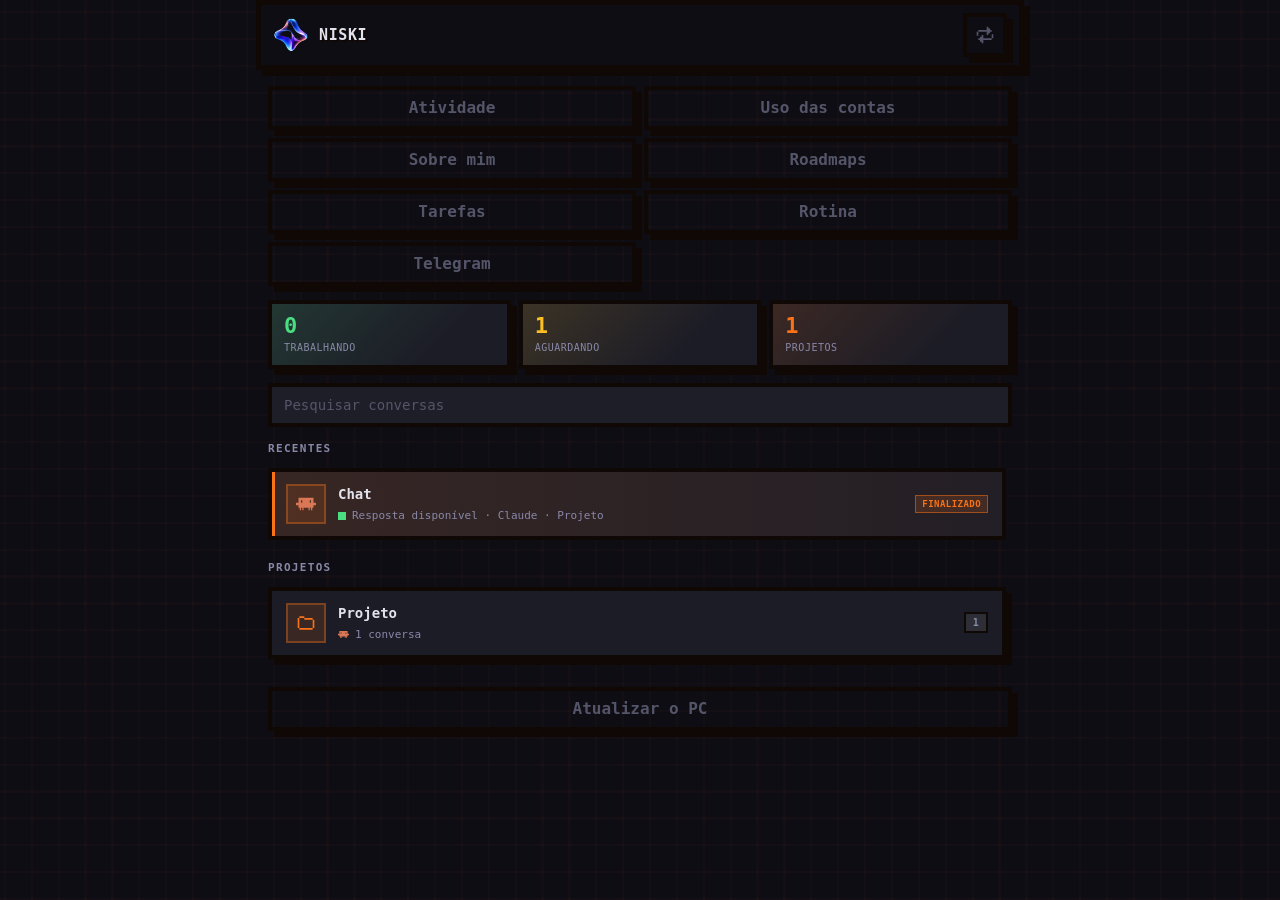
mandar prompt vira balão no chat e mostra o agente trabalhando, sem aviso de fila
Click the button with aria-label "Abrir projeto".
click(306, 623)  # box [268, 587, 1006, 659]
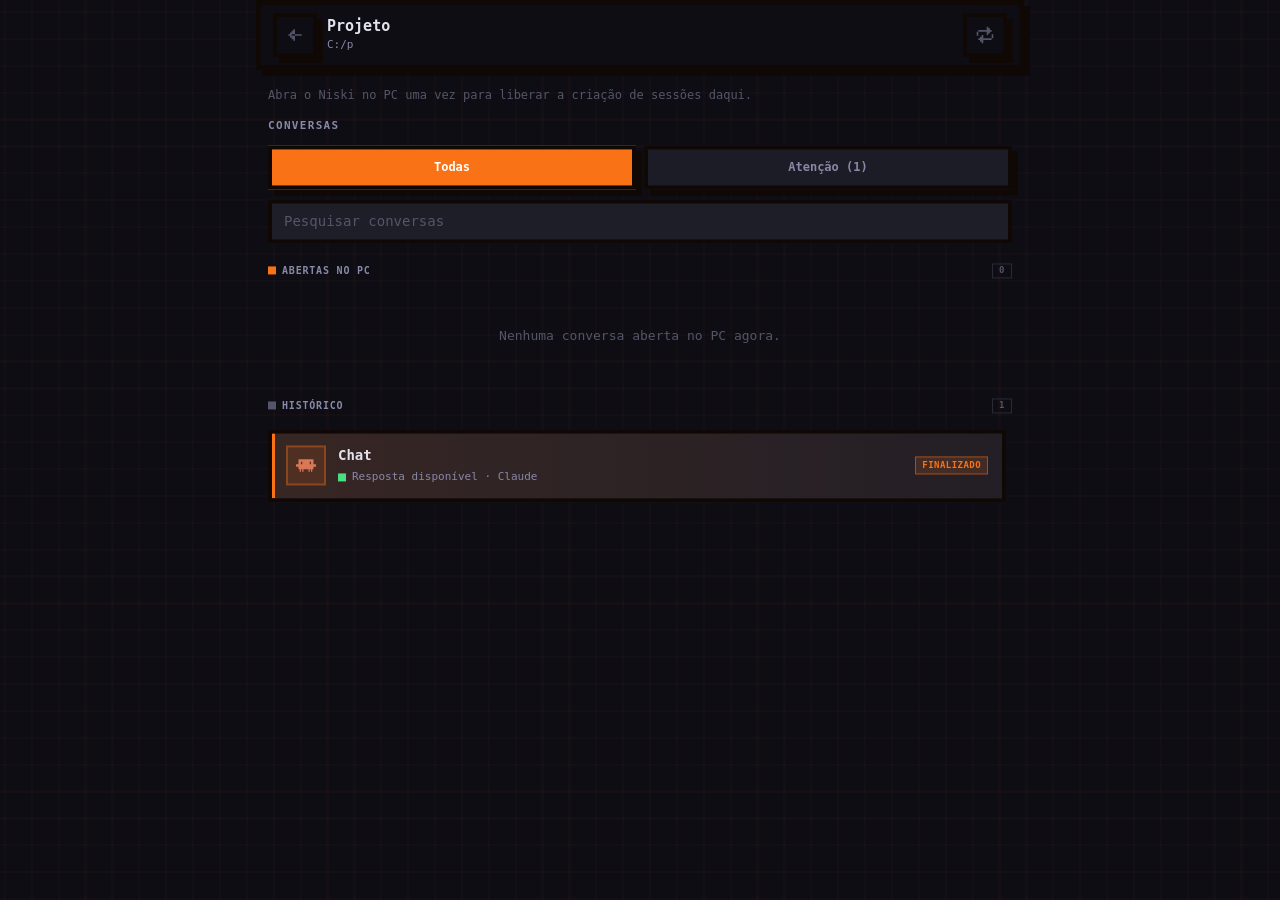
Click the button with aria-label "Abrir conversa".
click(306, 465)  # box [268, 429, 1006, 502]
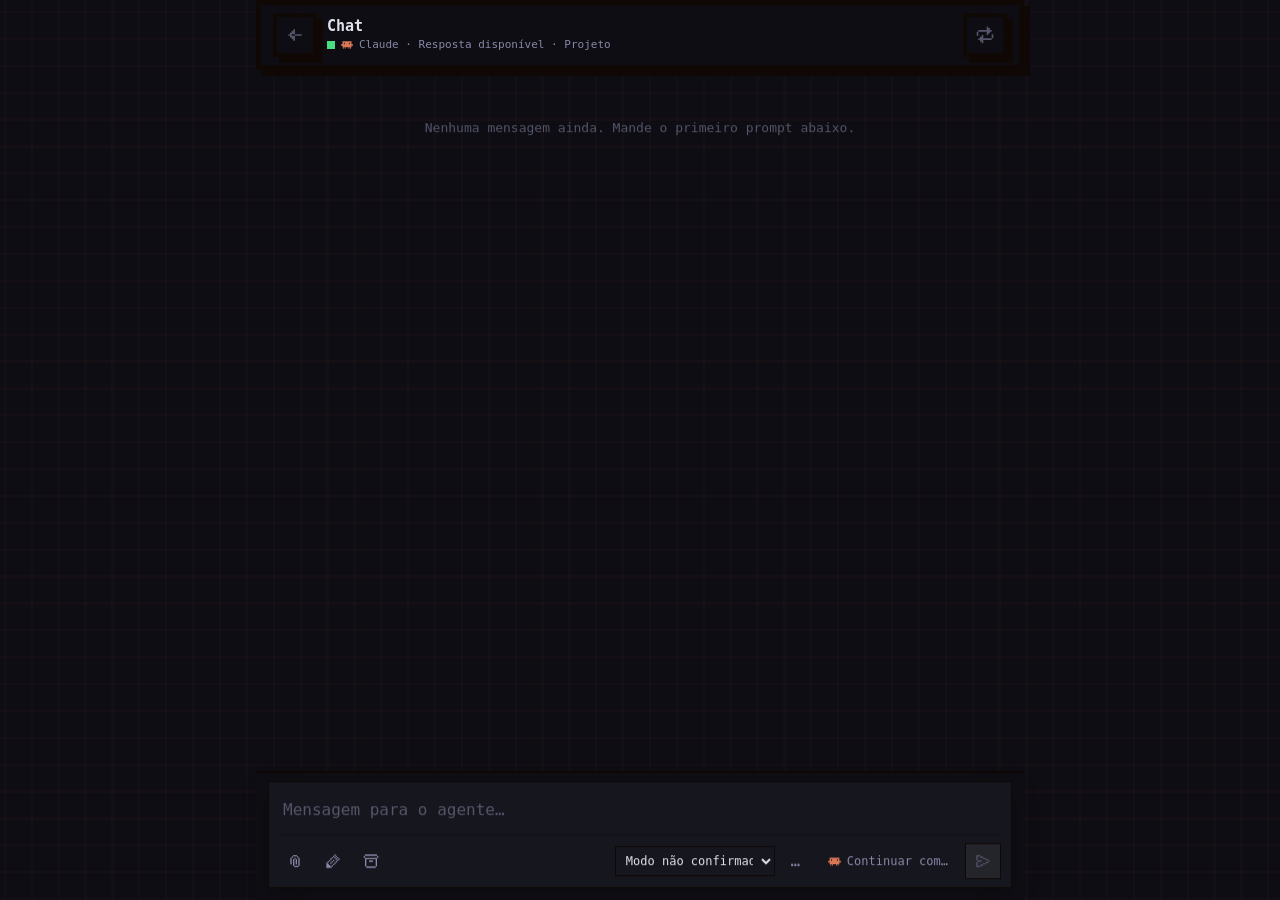
Type "Olá agente" into the text box named "Sua resposta".
click(640, 810); type("Olá agente")  # box [279, 792, 1001, 828]
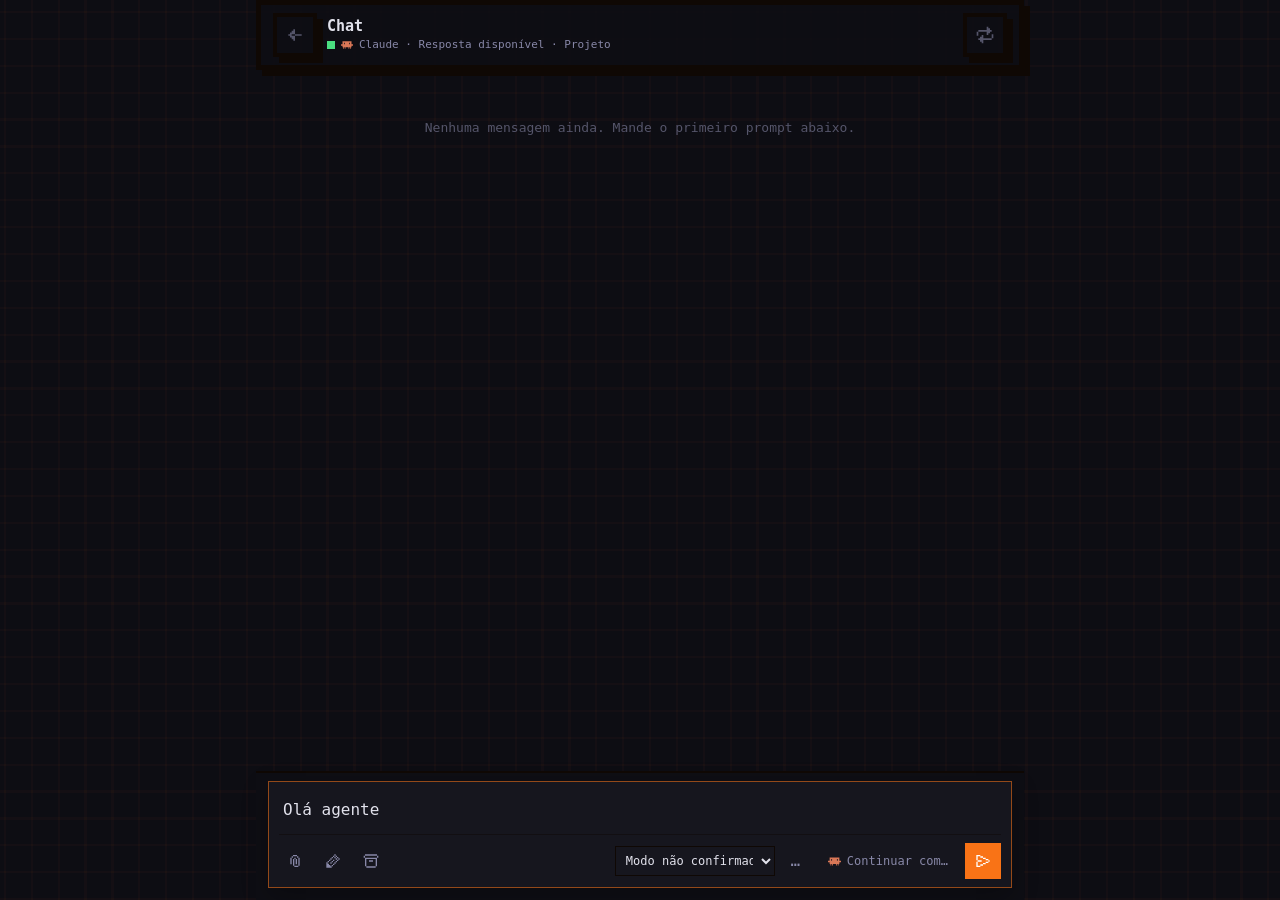
Click the button named "Enviar resposta".
click(983, 861)  # box [965, 843, 1001, 879]
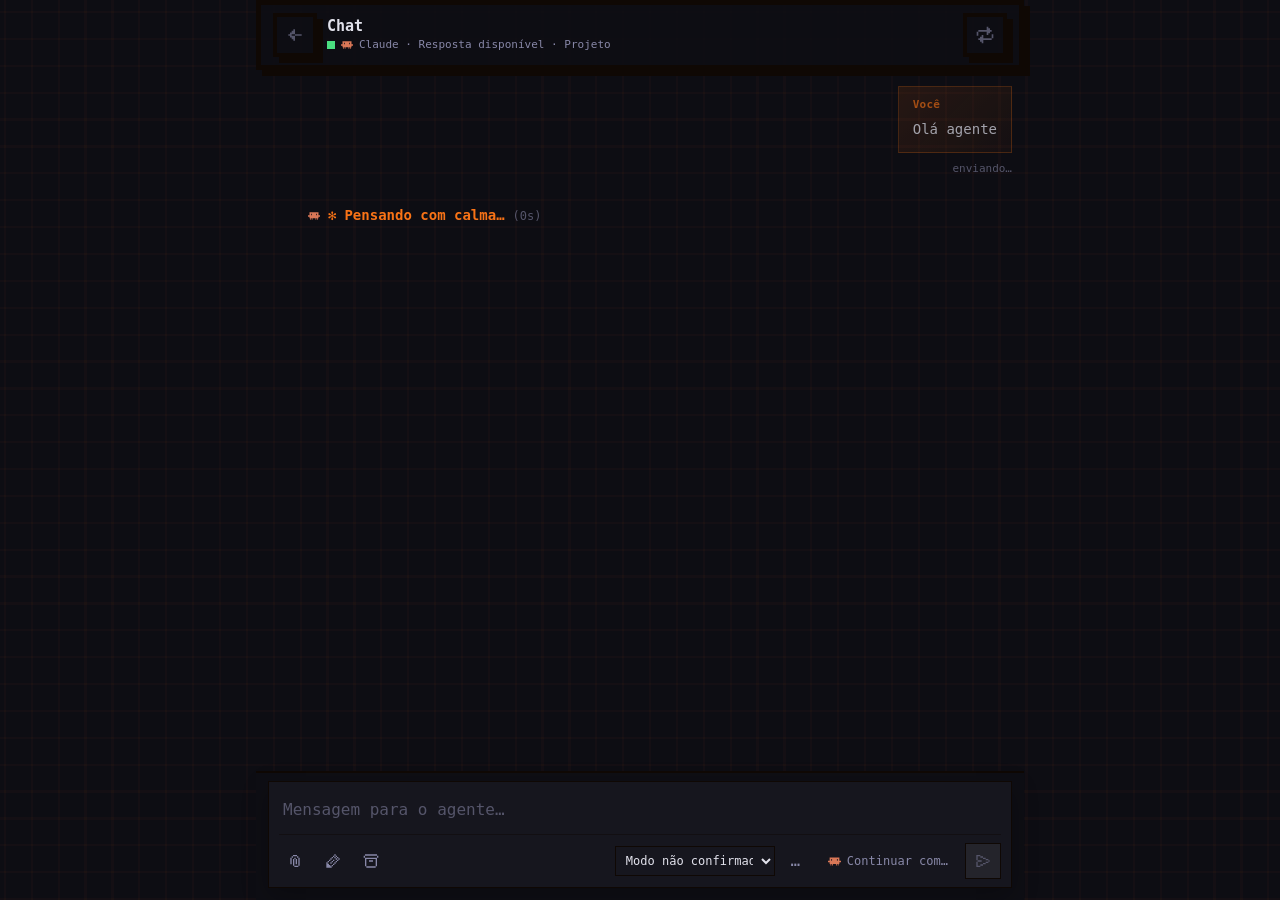
Expected: the text "Olá agente" is shown, [913, 118, 997, 141]
